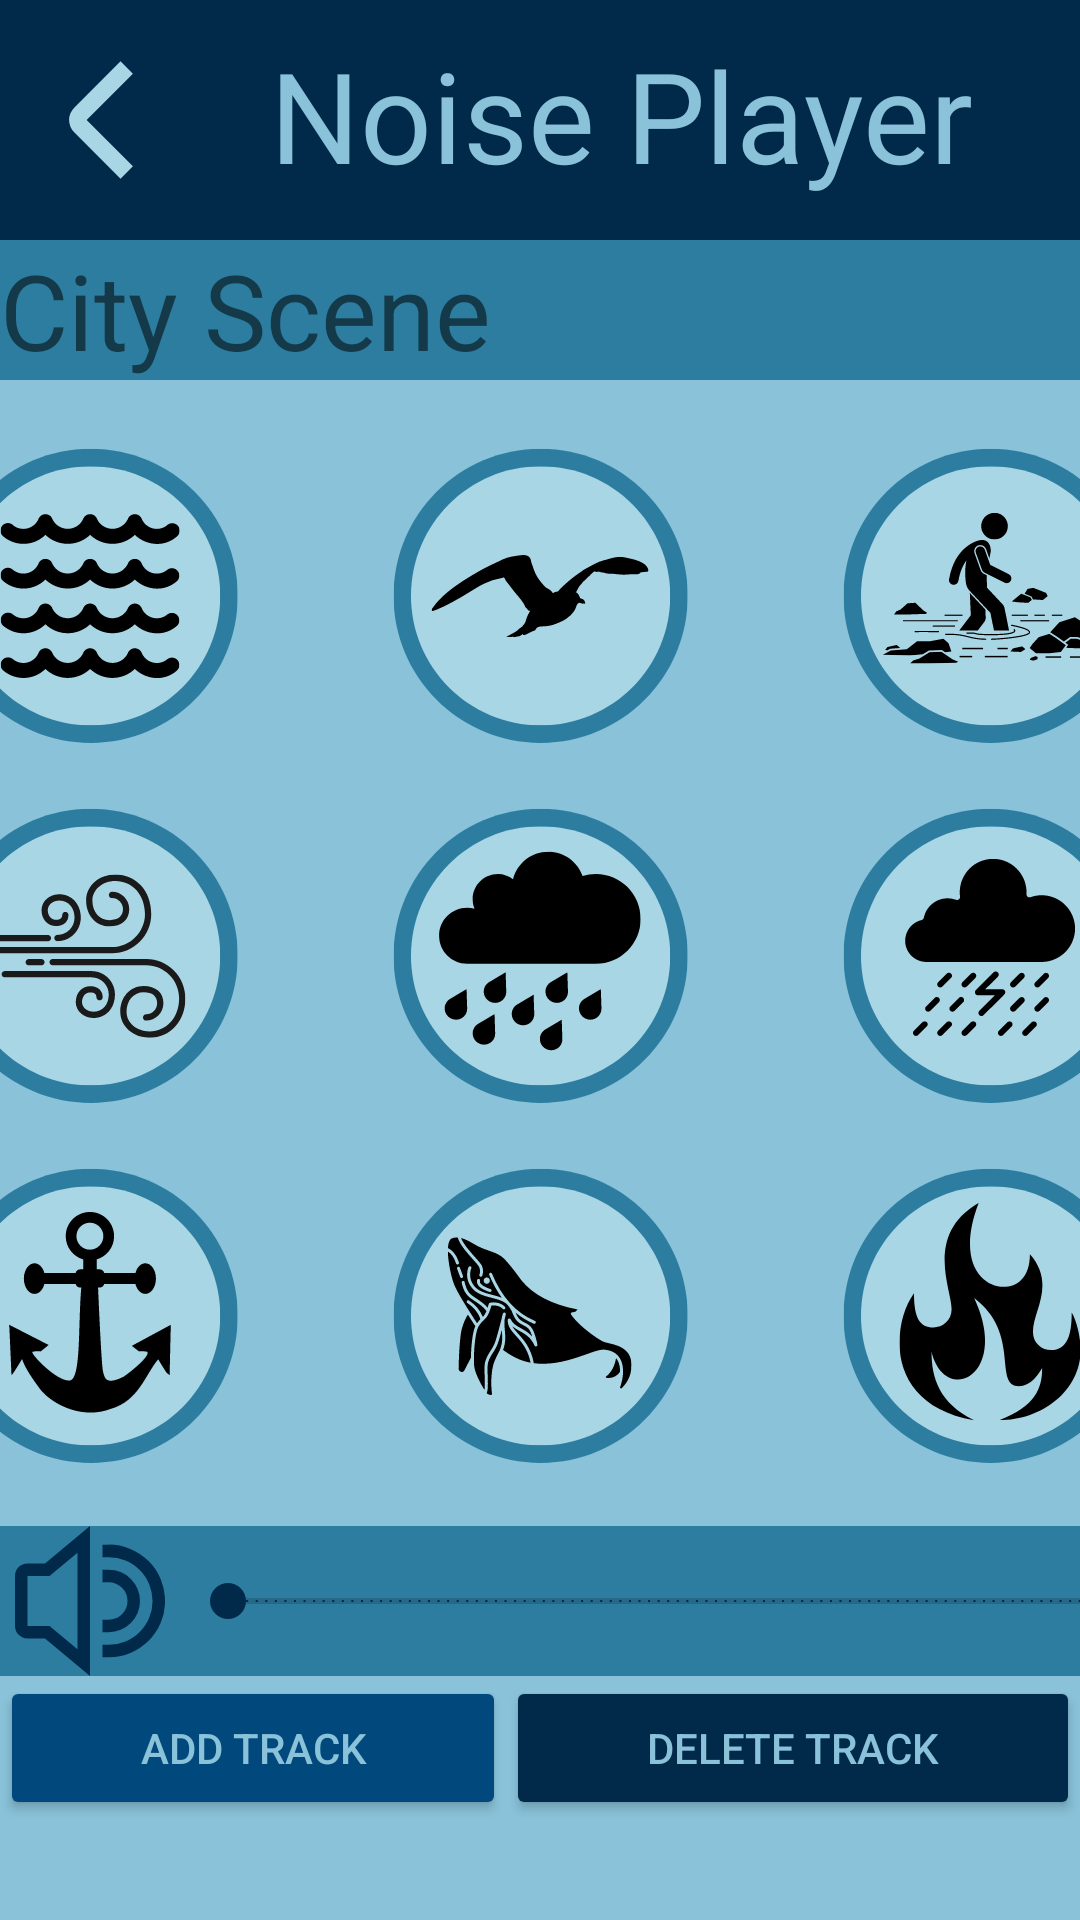

Icons on this 1080 x 1920 Android screen, each with its box as (x1, y1, x2, y2):
angle left: (69, 61, 133, 179)
rain: (394, 809, 688, 1103)
seagull: (394, 449, 688, 743)
volume: (15, 1526, 165, 1676)
whale: (394, 1169, 688, 1463)
